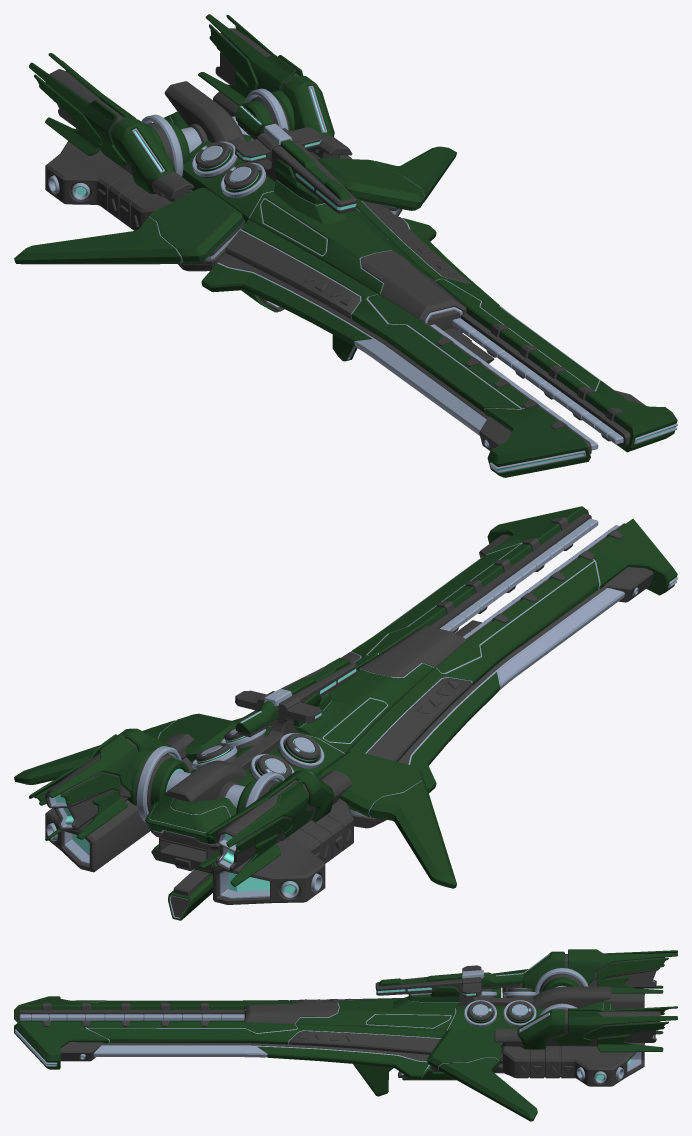
3 renders of one model, top to bottom at view 1: azimuth 30°, elevation 25°; view 2: azimuth 150°, elevation 25°; view 3: azimuth 270°, elevation 25°, orthographic. The views are drawn at different scales.
Visible parts, largest first — view 1: Cube.001; view 2: Cube.001; view 3: Cube.001.
Boxes of the visible parts, <box> form: Cube.001: <box>14,14,677,477</box>; Cube.001: <box>14,506,677,920</box>; Cube.001: <box>14,949,677,1121</box>.
Bounding box in the file's own units: 1783 × 693 × 3369.
